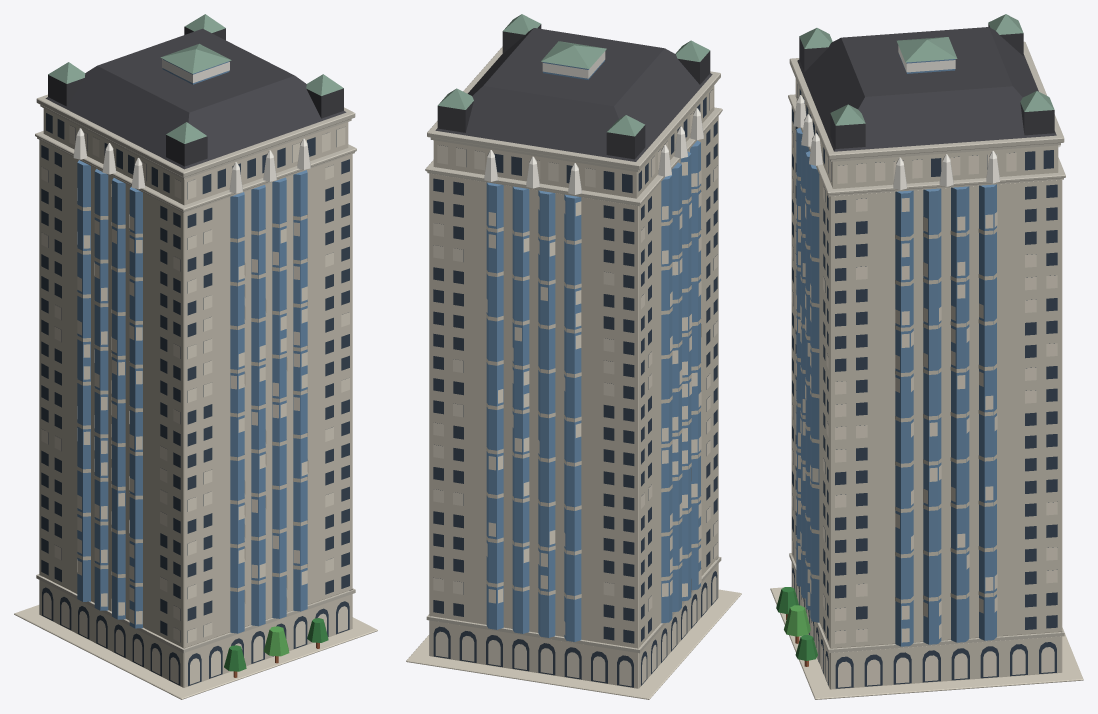
The model's file is 580-california-street.glb.
3 renders of one model, left to right at view 1: azimuth 30°, elevation 25°; view 2: azimuth 150°, elevation 25°; view 3: azimuth 270°, elevation 25°, orthographic. The views are drawn at different scales.
Visible parts, largest first — view 1: 580-california-street_body, 580-california-street_night_glow; view 2: 580-california-street_body, 580-california-street_night_glow; view 3: 580-california-street_body, 580-california-street_night_glow.
Part boxes in pixels (x1,y1,x2,y2): 580-california-street_body: (14, 14, 377, 699); 580-california-street_night_glow: (41, 59, 349, 684); 580-california-street_body: (406, 14, 741, 699); 580-california-street_night_glow: (433, 51, 717, 686); 580-california-street_body: (770, 14, 1083, 699); 580-california-street_night_glow: (791, 46, 1057, 687).
Bounding box in the file's own units: 50.03 × 107 × 51.01.
